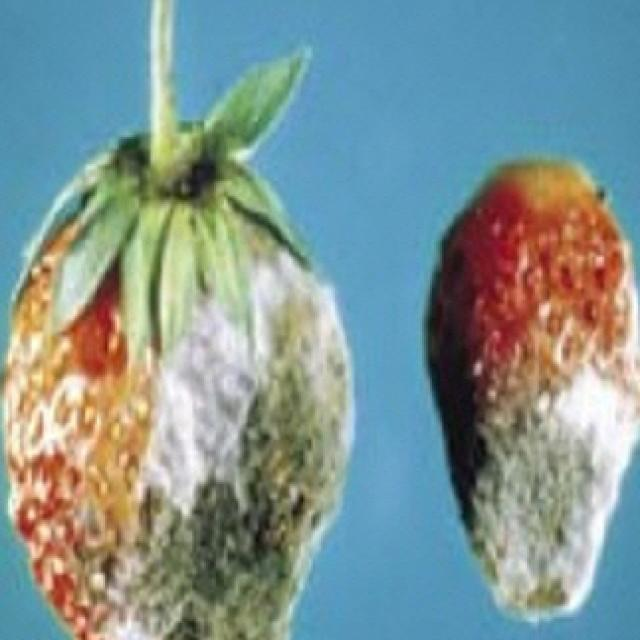Gray Mold: (0, 200, 358, 640), (428, 198, 640, 626)
